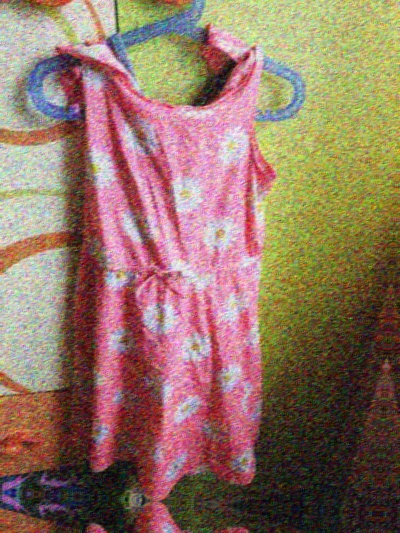Dress: (8, 0, 313, 498), (0, 505, 284, 533)
